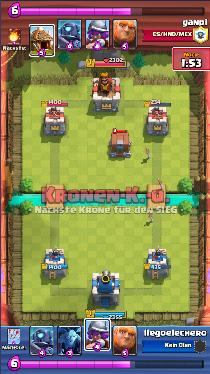ally_goblin_cage: (108, 130, 134, 158)
